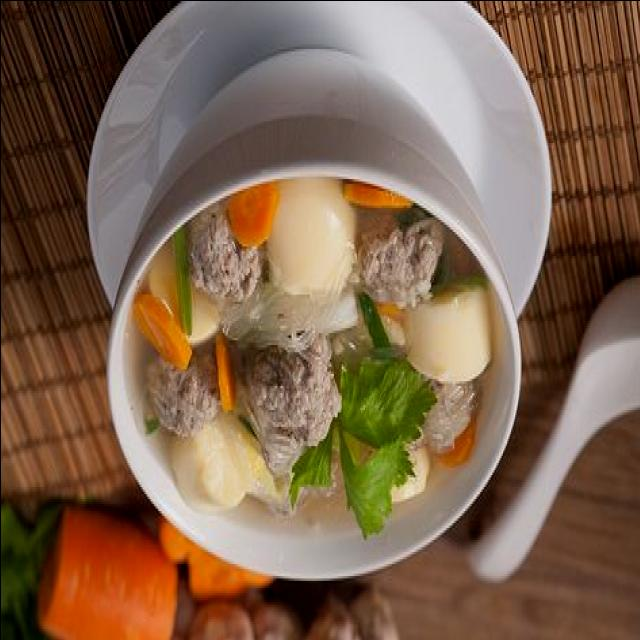sop: (129, 176, 493, 537)
